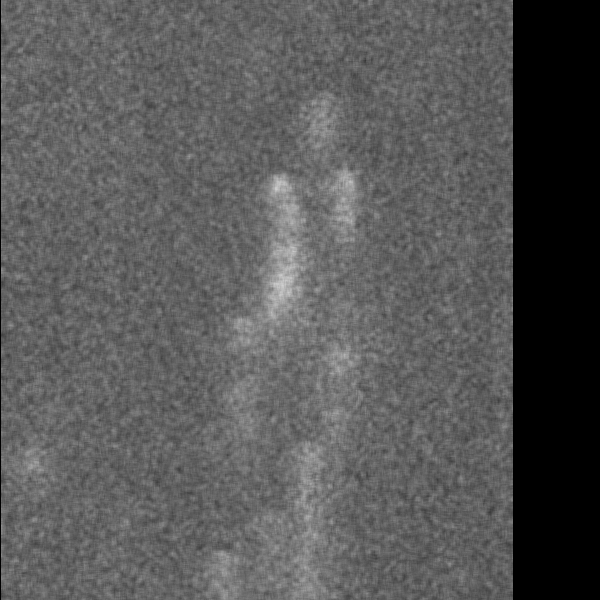spark: (289, 434, 319, 599), (331, 167, 360, 280), (324, 345, 358, 375), (317, 402, 346, 423)
